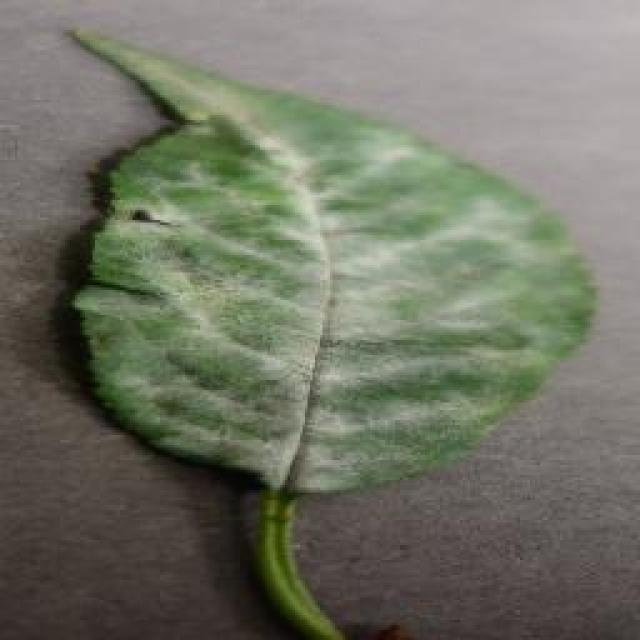Cherry___Powdery_mildew: (55, 10, 610, 640)
